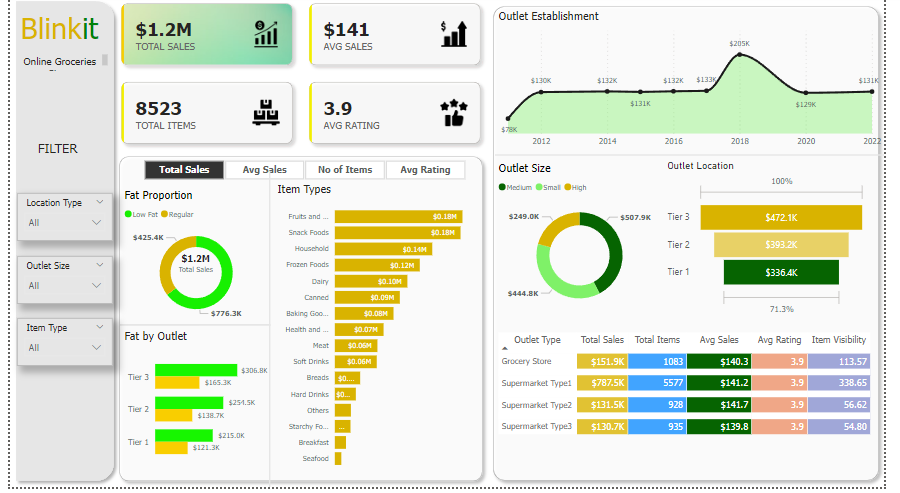

What the dashboard file says about the page in this screenshot:
{"tool":"powerbi","page":{"name":"Dashboard","canvas":[1280,720],"ordinal":0},"visuals":[{"type":"shape","box":[697.5,7.5,582.5,712.5],"z":0},{"type":"shape","box":[0,0,161,720],"z":1000},{"type":"textbox","box":[10.1,16.8,194.9,80.6],"z":2000},{"type":"textbox","box":[5.9,82,142,33.7],"z":3000},{"type":"cardVisual","fields":{"Data":["Blinkit Store.Total Sales","Blinkit Store.Avg Sales","Blinkit Store.No of Items","Blinkit Store.Avg Rating"]},"box":[150,0,550,230],"z":4000},{"type":"shape","box":[150,226.2,550,493.8],"z":5000},{"type":"donutChart","title":"Fat Proportion","fields":{"Y":["Blinkit Store.Total Sales"],"Category":["Blinkit Store.Item Fat Content"]},"box":[162.5,282.5,220,201.2],"z":6000},{"type":"slicer","fields":{"Values":["Metric.Metric"]},"box":[171.2,235,518.8,38.8],"z":7000},{"type":"cardVisual","fields":{"Data":["Blinkit Store.Total Sales"]},"box":[227.5,360,90,55],"z":8000},{"type":"clusteredBarChart","title":"Fat by Outlet","fields":{"Y":["Blinkit Store.Total Sales"],"Category":["Blinkit Store.Outlet Location Type","Blinkit Store.Outlet Type"],"Series":["Blinkit Store.Item Fat Content"]},"box":[162.4,488.8,219.5,209.3],"z":9000},{"type":"shape","box":[161.2,477.5,220,11.2],"z":10000},{"type":"shape","box":[372.5,257.5,13.8,462.5],"z":11000},{"type":"barChart","title":"Item Types","fields":{"Y":["Blinkit Store.Total Sales"],"Category":["Blinkit Store.Item Type"]},"box":[386.2,273.8,303.8,428.8],"z":12000},{"type":"lineChart","title":"Outlet Establishment","fields":{"Y":["Blinkit Store.Total Sales"],"Category":["Blinkit Store.Outlet Establishment Year"]},"box":[709.8,20.5,570.7,209.3],"z":13000},{"type":"shape","box":[161.2,477.5,220,11.2],"z":14000},{"type":"shape","box":[709.3,228.3,570.7,11.7],"z":15000},{"type":"donutChart","title":"Outlet Size","fields":{"Y":["Blinkit Store.Total Sales"],"Category":["Blinkit Store.Outlet Size"]},"box":[709.8,242.9,247.3,229.8],"z":16000},{"type":"funnel","title":"Outlet Location","fields":{"Y":["Sum(Blinkit Store.Sales)"],"Category":["Blinkit Store.Outlet Location Type"]},"box":[957.1,241.5,300,231.2],"z":17000},{"type":"pivotTable","fields":{"Rows":["Blinkit Store.Outlet Type"],"Values":["Blinkit Store.Total Sales","Blinkit Store.Total Items","Blinkit Store.Avg Sales","Blinkit Store.Avg Rating","Sum(Blinkit Store.Item Visibility)"]},"box":[709.8,488.8,569.3,209.3],"z":18000},{"type":"slicer","fields":{"Values":["Blinkit Store.Outlet Location Type"]},"box":[10.2,289.8,140,70],"z":19000},{"type":"slicer","fields":{"Values":["Blinkit Store.Outlet Size"]},"box":[10.2,382,140,70],"z":20000},{"type":"slicer","fields":{"Values":["Blinkit Store.Item Type"]},"box":[10.2,472.7,140,70],"z":21000},{"type":"textbox","box":[23.4,207.8,92.2,39.5],"z":22000}]}

Visuals, with their boxes in screenshot pixels (x1, y1, x2, y2), scaled from the page's 1280x720 canvas onto the 900x493 screenshot:
shape: region(490, 5, 899, 492)
shape: region(0, 0, 113, 492)
textbox: region(7, 12, 144, 67)
textbox: region(4, 56, 104, 79)
cardVisual - Blinkit Store.Total Sales x Blinkit Store.Avg Sales: region(105, 0, 492, 157)
shape: region(105, 155, 492, 492)
"Fat Proportion" donutChart: region(114, 193, 269, 331)
slicer - Metric.Metric: region(120, 161, 485, 187)
cardVisual - Blinkit Store.Total Sales: region(160, 246, 223, 284)
"Fat by Outlet" clusteredBarChart: region(114, 335, 269, 478)
shape: region(113, 327, 268, 335)
shape: region(262, 176, 272, 492)
"Item Types" barChart: region(272, 187, 485, 481)
"Outlet Establishment" lineChart: region(499, 14, 899, 157)
shape: region(113, 327, 268, 335)
shape: region(499, 156, 899, 164)
"Outlet Size" donutChart: region(499, 166, 673, 324)
"Outlet Location" funnel: region(673, 165, 884, 324)
pivotTable - Blinkit Store.Outlet Type x Blinkit Store.Total Sales: region(499, 335, 899, 478)
slicer - Blinkit Store.Outlet Location Type: region(7, 198, 106, 246)
slicer - Blinkit Store.Outlet Size: region(7, 262, 106, 309)
slicer - Blinkit Store.Item Type: region(7, 324, 106, 372)
textbox: region(16, 142, 81, 169)
